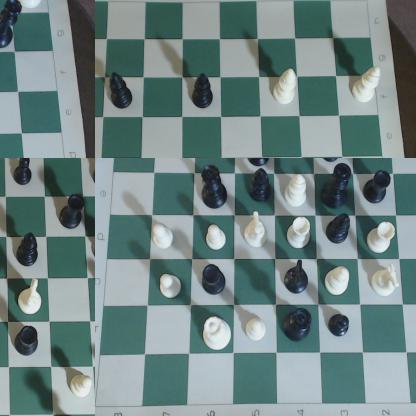black-bishop: (107, 68, 137, 116), (186, 71, 216, 116), (15, 233, 42, 271), (250, 167, 275, 204), (326, 214, 354, 246)
black-king: (320, 161, 353, 209)
black-knight: (284, 259, 310, 295), (246, 159, 274, 169)
black-pawn: (9, 159, 37, 189), (328, 315, 352, 339)
black-queen: (202, 165, 230, 212), (1, 1, 25, 52), (285, 308, 314, 343)
black-rook: (62, 190, 88, 232), (363, 170, 394, 205), (202, 261, 230, 297), (16, 325, 42, 361)
white-bishop: (352, 64, 381, 110), (274, 67, 299, 109), (324, 267, 351, 297), (286, 173, 309, 206)
white-knight: (371, 264, 402, 301), (18, 278, 46, 317), (244, 210, 270, 249)
white-pawn: (66, 371, 92, 399), (159, 273, 183, 300), (154, 223, 176, 251), (207, 226, 228, 254), (246, 319, 266, 342)
white-queen: (204, 316, 234, 351)
white-rook: (367, 222, 397, 255), (286, 217, 313, 250)
